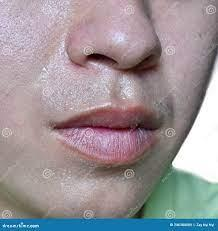Oily-Skin: (13, 7, 157, 190)
